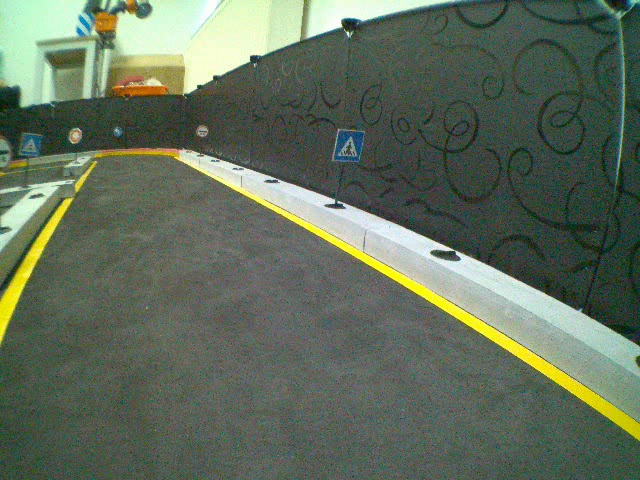Check: (1, 135, 13, 172), (196, 123, 210, 139)
Stop: (67, 127, 83, 145)
crossing: (336, 129, 363, 162), (21, 130, 44, 157)
turn: (112, 125, 123, 138)
